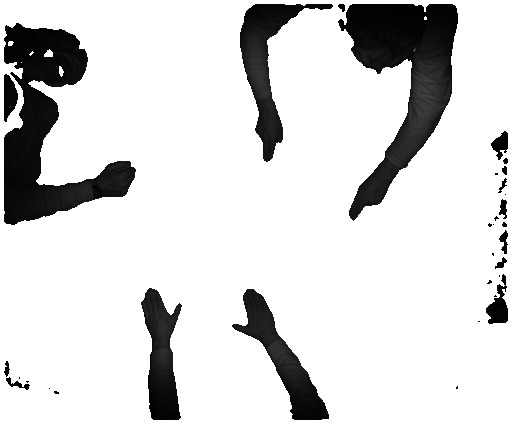fist: (103, 160, 135, 199)
hand: (136, 288, 183, 342), (232, 288, 279, 341), (344, 174, 391, 223), (248, 112, 287, 167)
